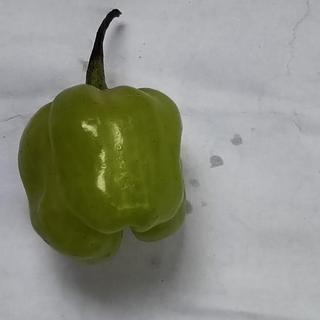Grade-B: (17, 80, 188, 260)
